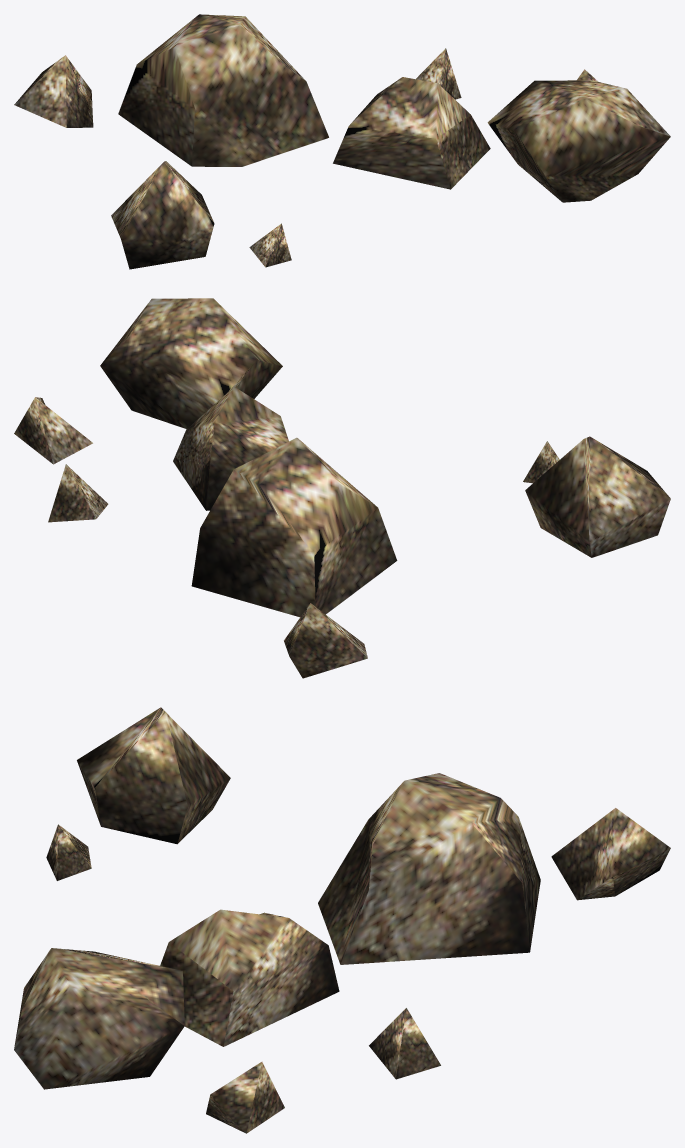
The model's file is rock_015_LOD1.obj.
3 views of the same model, one above another, from view 1: azimuth 30°, elevation 25°; view 2: azimuth 150°, elevation 25°; view 3: azimuth 270°, elevation 25° (orthographic). The views are drawn at different scales.
Parts seen in each view (by area): view 1: rock_015_LOD1; view 2: rock_015_LOD1; view 3: rock_015_LOD1.
Part boxes in pixels (x1,y1,x2,y2): rock_015_LOD1: [14, 14, 670, 269]; rock_015_LOD1: [14, 298, 670, 678]; rock_015_LOD1: [14, 707, 670, 1133].
Bounding box in the file's own units: 188 × 43.55 × 152.
1 material, 1 textured.
